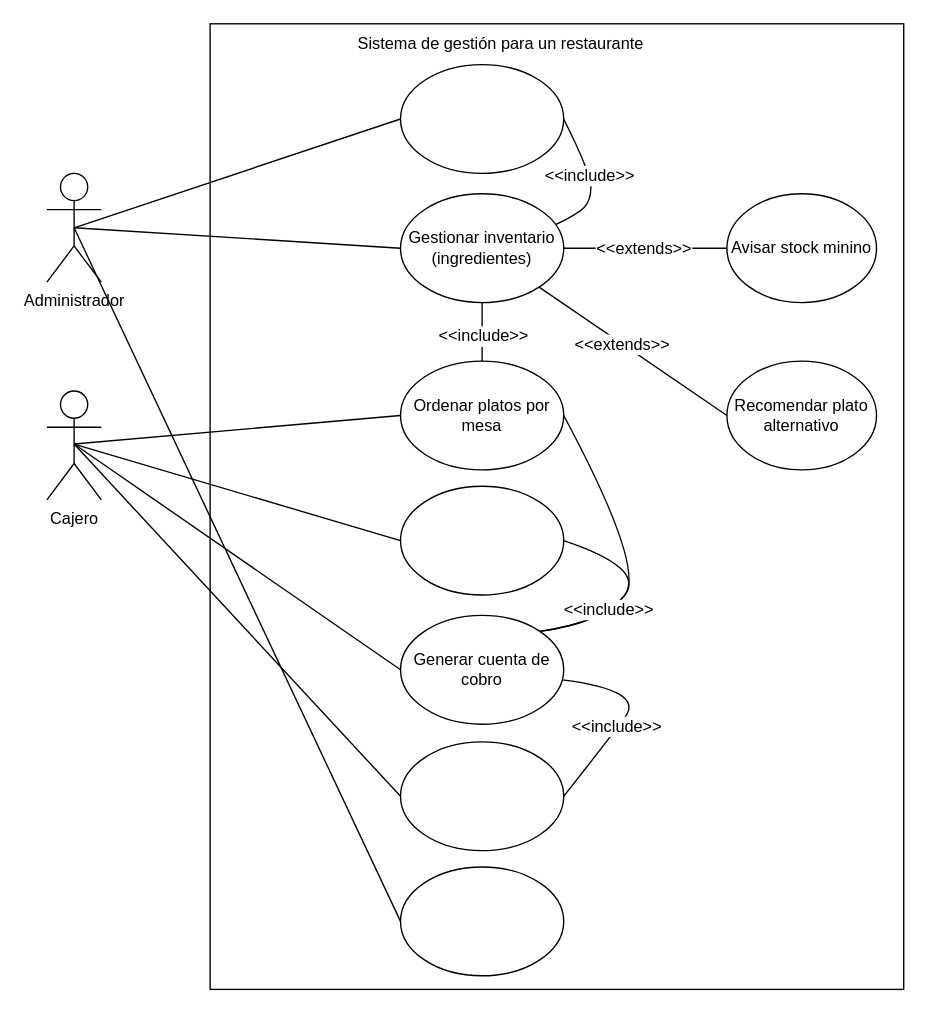
Image size: 928x1013. Some labels were removed from this diagram. Here are the shapes that lost their labels. From the top down, the centre of each, then its label:
At [481,118]: "Gestionar menu".
At [481,540]: "Gestionar devolución de platos".
At [481,796]: "Registrar pago".
At [481,921]: "Generar reporte de ventas".
